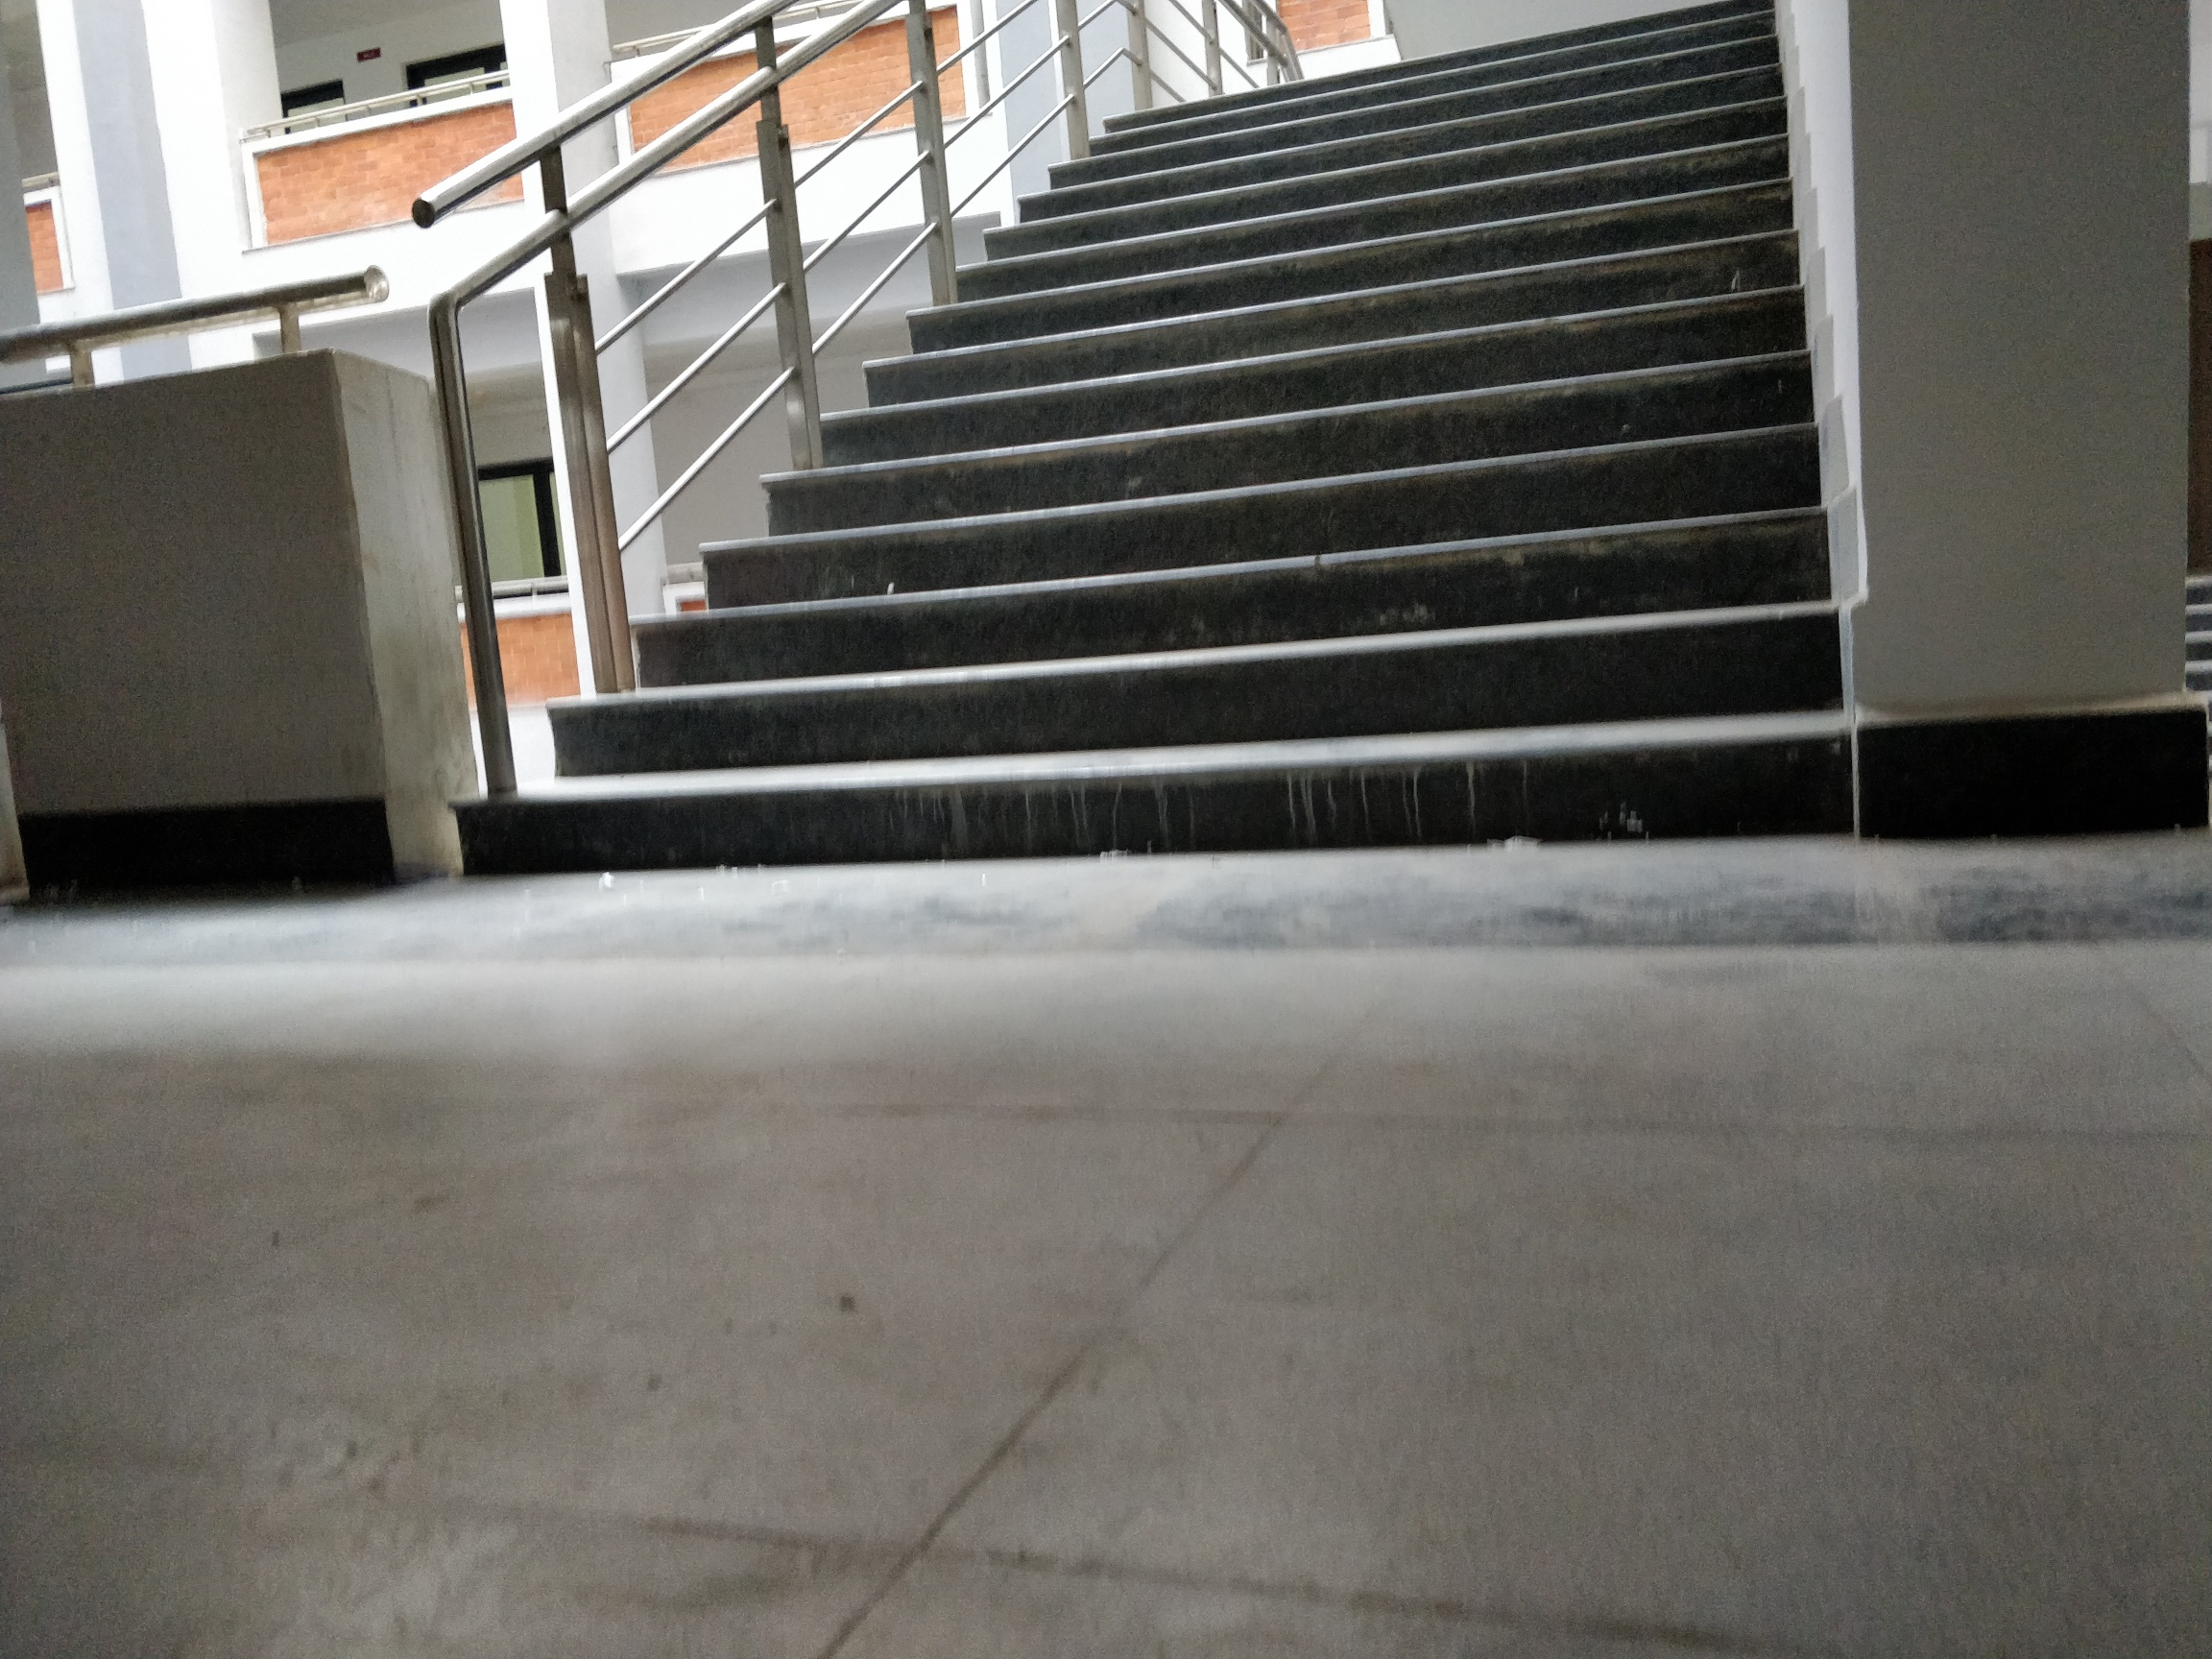stairs_up: (671, 14, 1738, 842)
